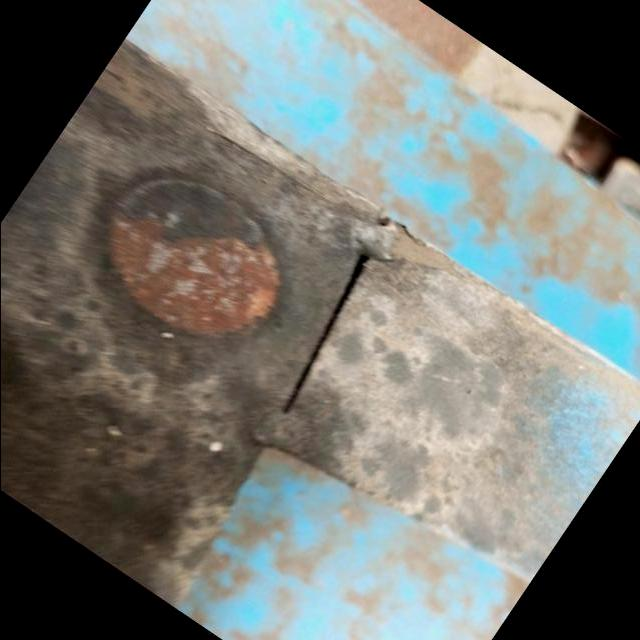defect: (275, 250, 375, 416)
